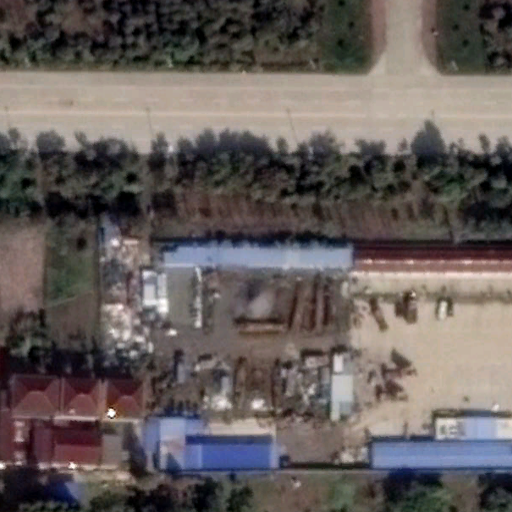msw: (100, 238, 150, 355)
